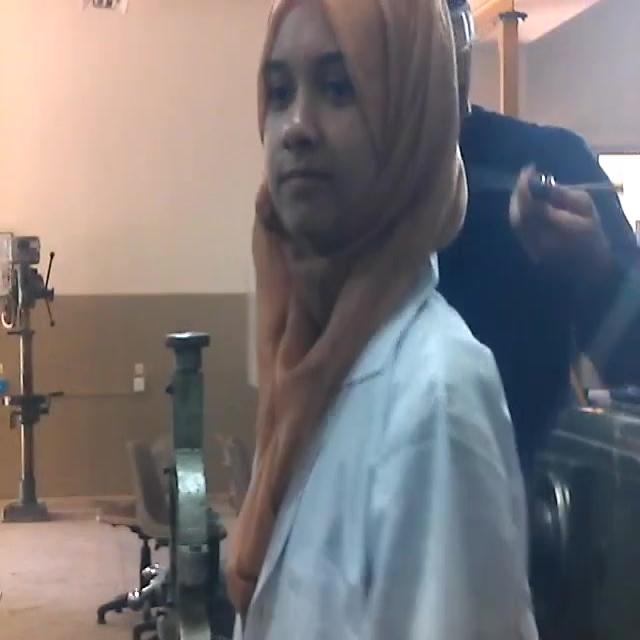labcoat: (233, 256, 532, 640)
